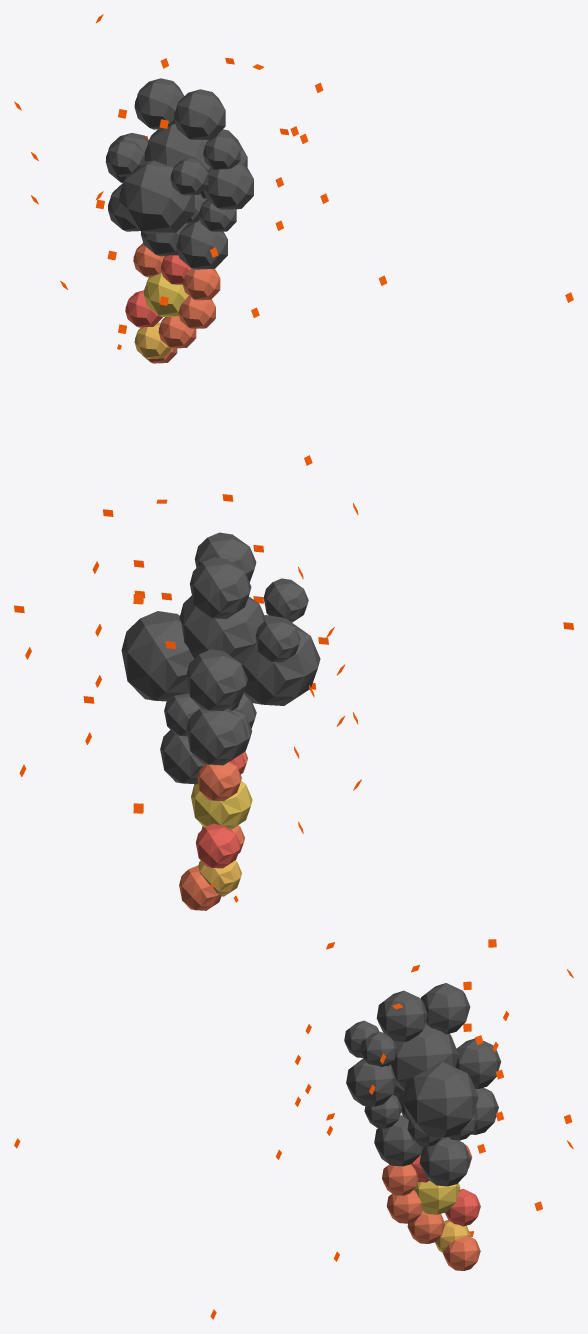
The model's file is 12 Fire_Smoke.FBX.
3 views of the same model, one above another, from view 1: azimuth 30°, elevation 25°; view 2: azimuth 150°, elevation 25°; view 3: azimuth 270°, elevation 25° (orthographic). The views are drawn at different scales.
Parts seen in each view (by area): view 1: Fire_1; view 2: Fire_1; view 3: Fire_1.
Part boxes in pixels (<box>): Fire_1: <box>14,14,573,465</box>; Fire_1: <box>14,494,573,910</box>; Fire_1: <box>14,939,573,1319</box>.
Bounding box in the file's own units: 2937 × 2086 × 3564.
